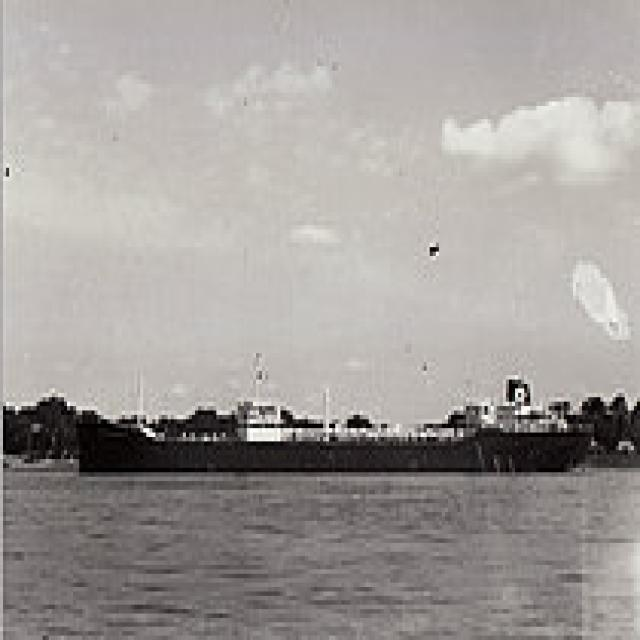Tanker: (76, 349, 591, 468)
